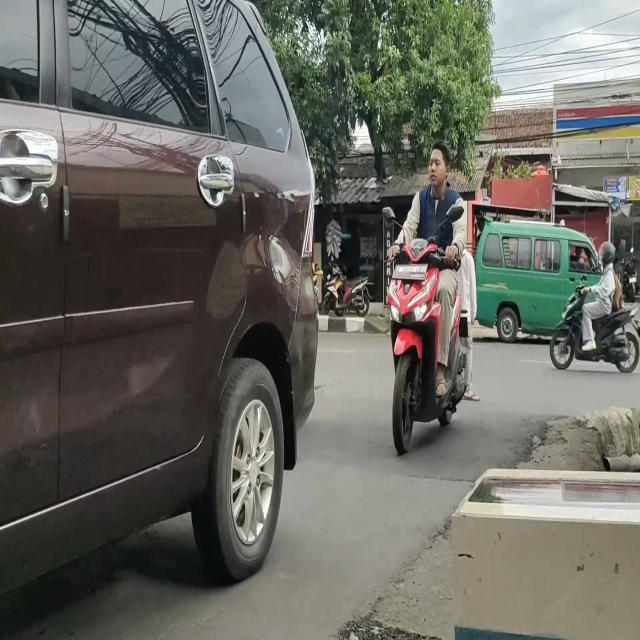helmet: (598, 240, 616, 264)
no-helmet: (430, 144, 450, 184)
